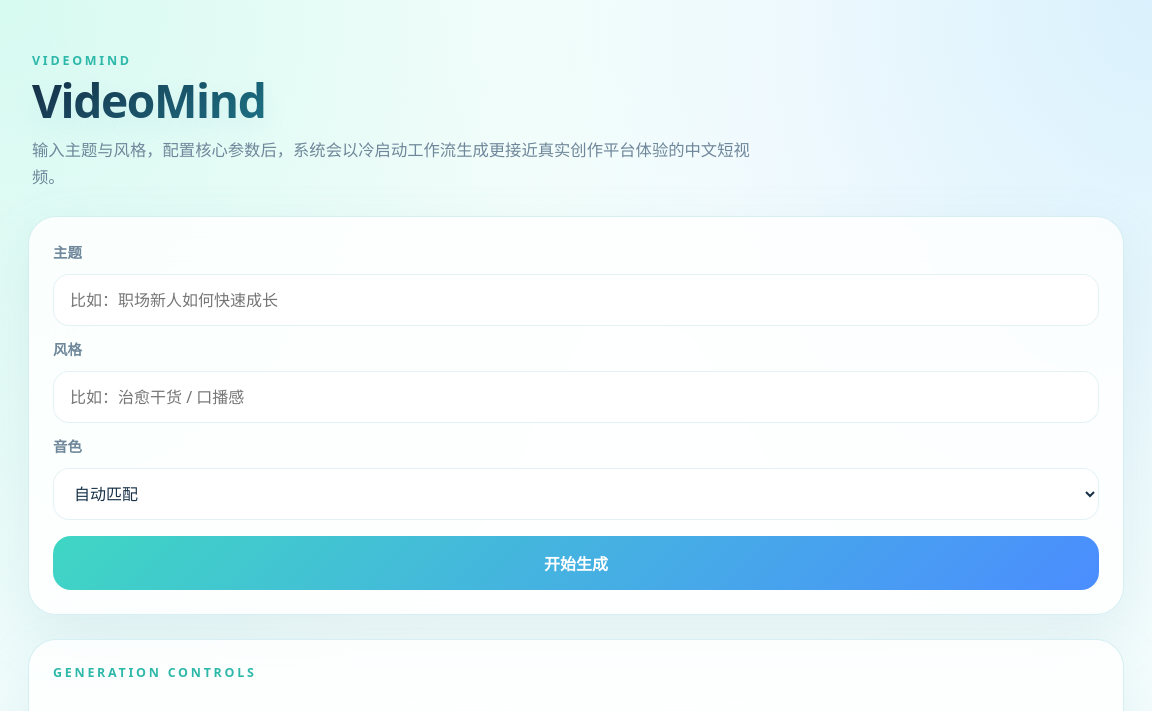
Test case: JobForm › submits on the home page and keeps generation on the current page
Step 1. Type "春节旅行攻略" into the field labelled "主题" → (576,300), box [53,274,1099,326]
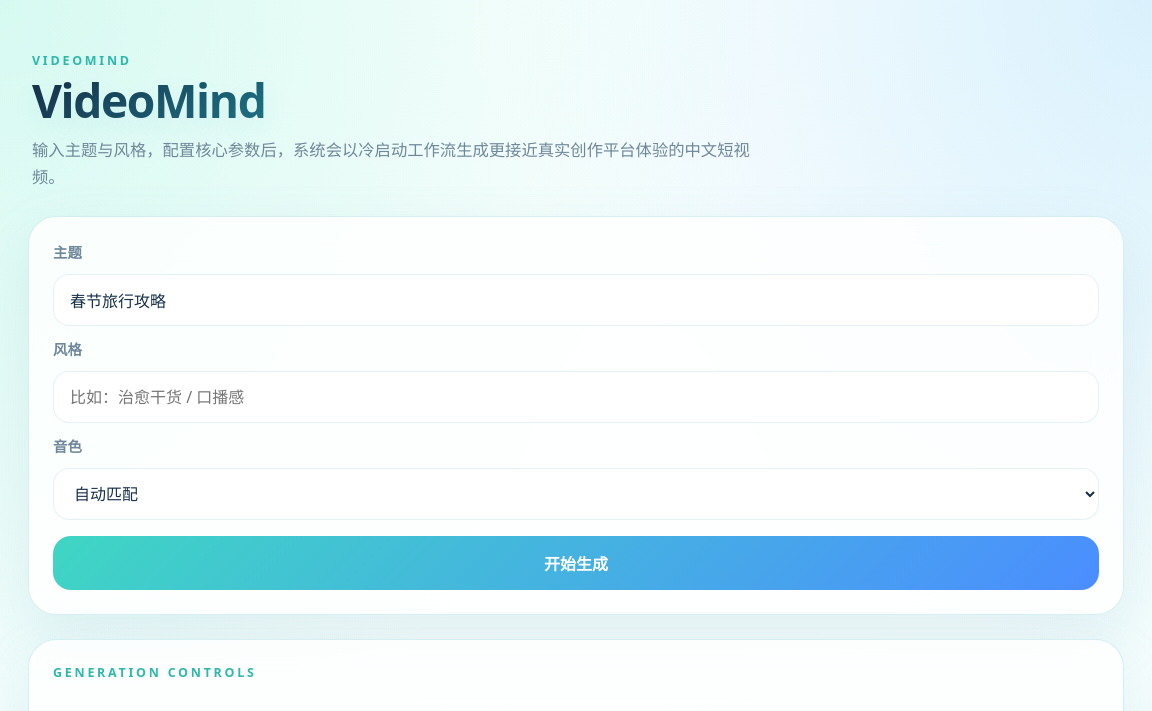
Step 2. Type "轻松口播" into the field labelled "风格" → (576,397), box [53,371,1099,423]
(page scrolled)
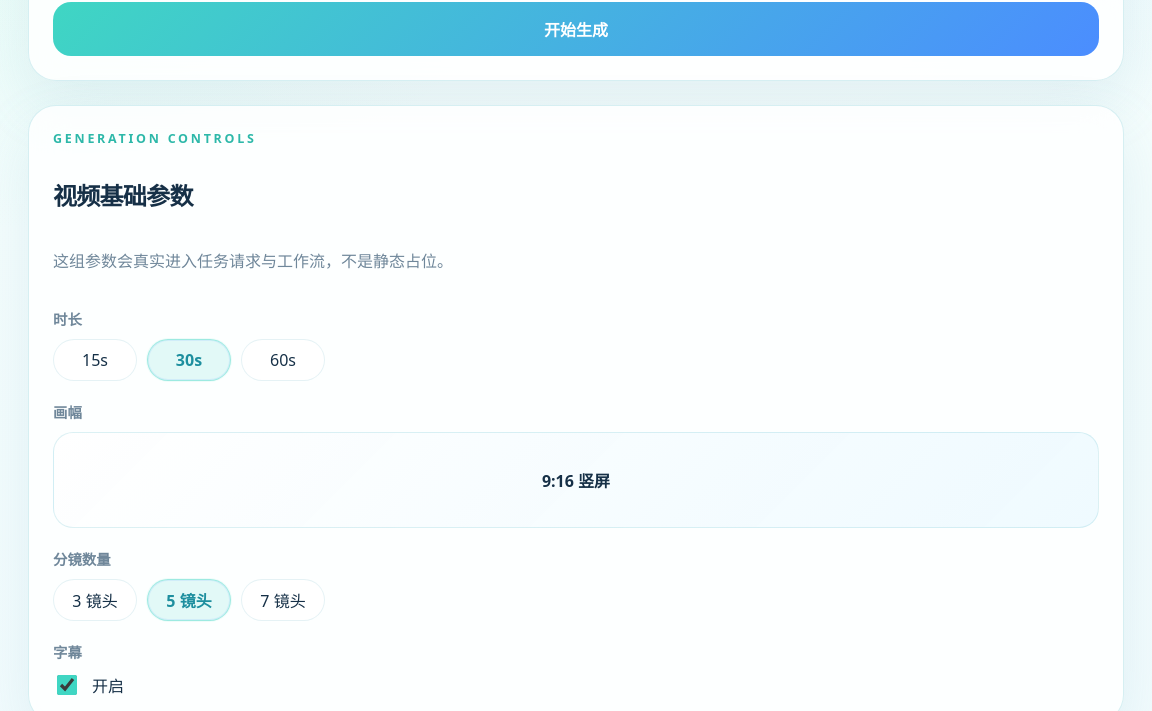
Step 3. Click the button "60s" → (283,360), box [241,339,325,381]
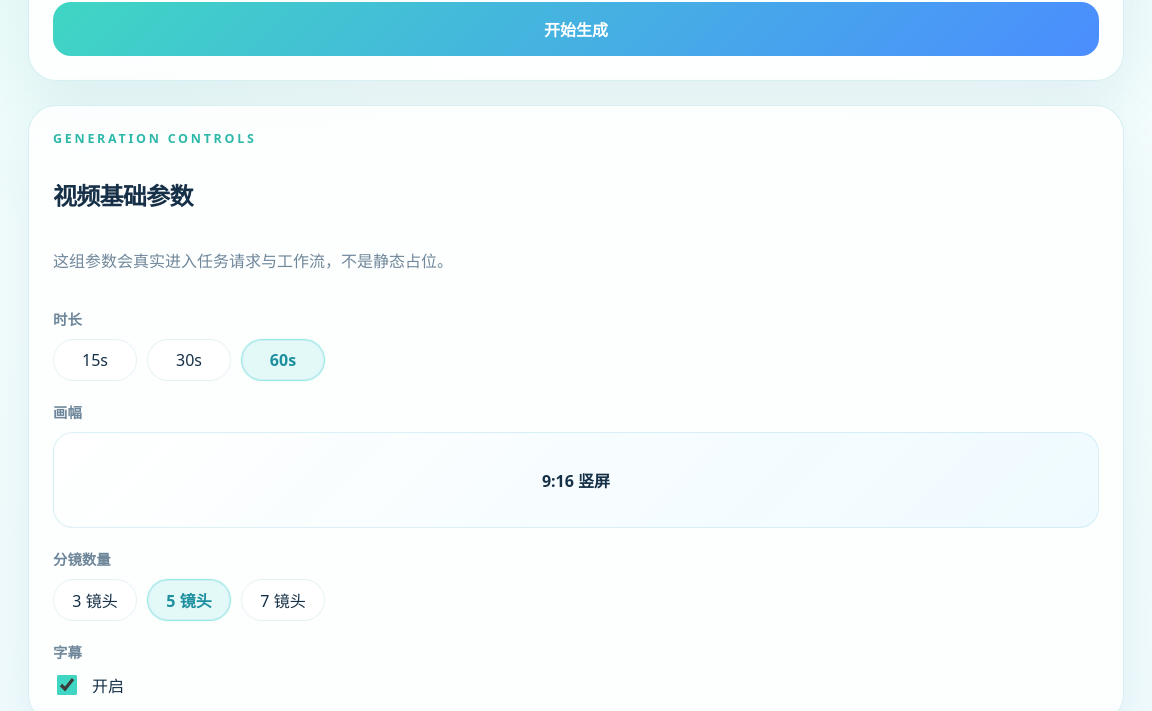
Step 4. Click the button "7 镜头" → (283,600), box [241,579,325,621]
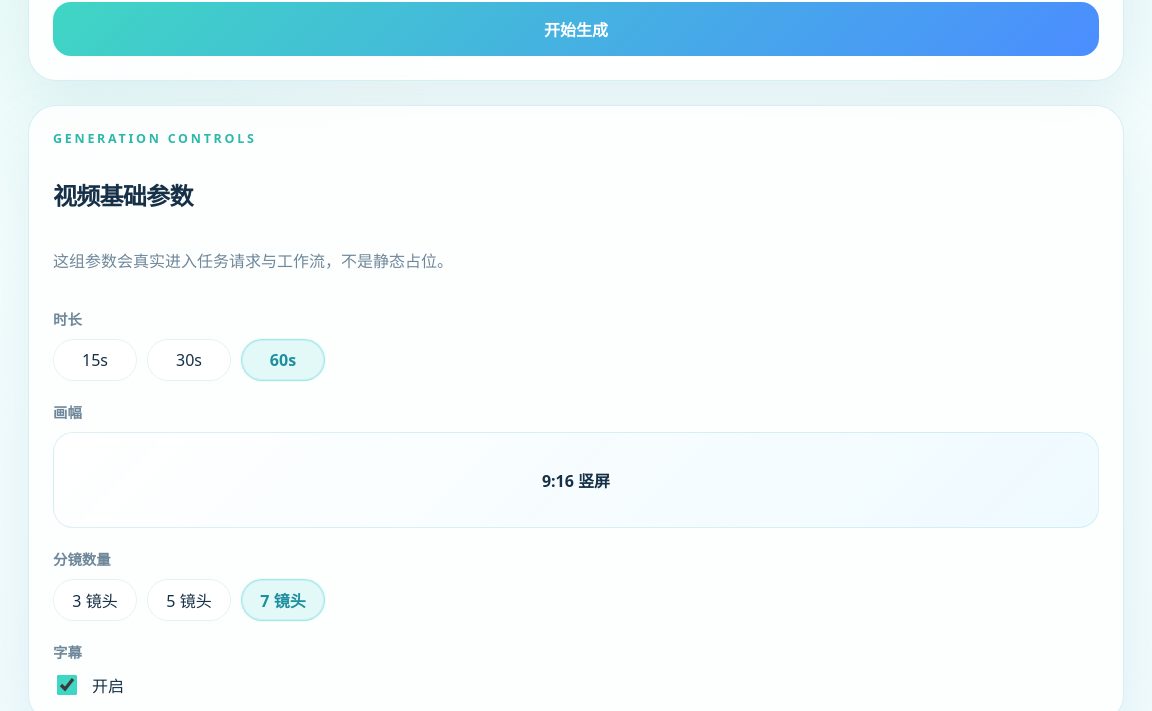
Step 5. Click the switch named "字幕" → (67,685), box [57,675,77,695]
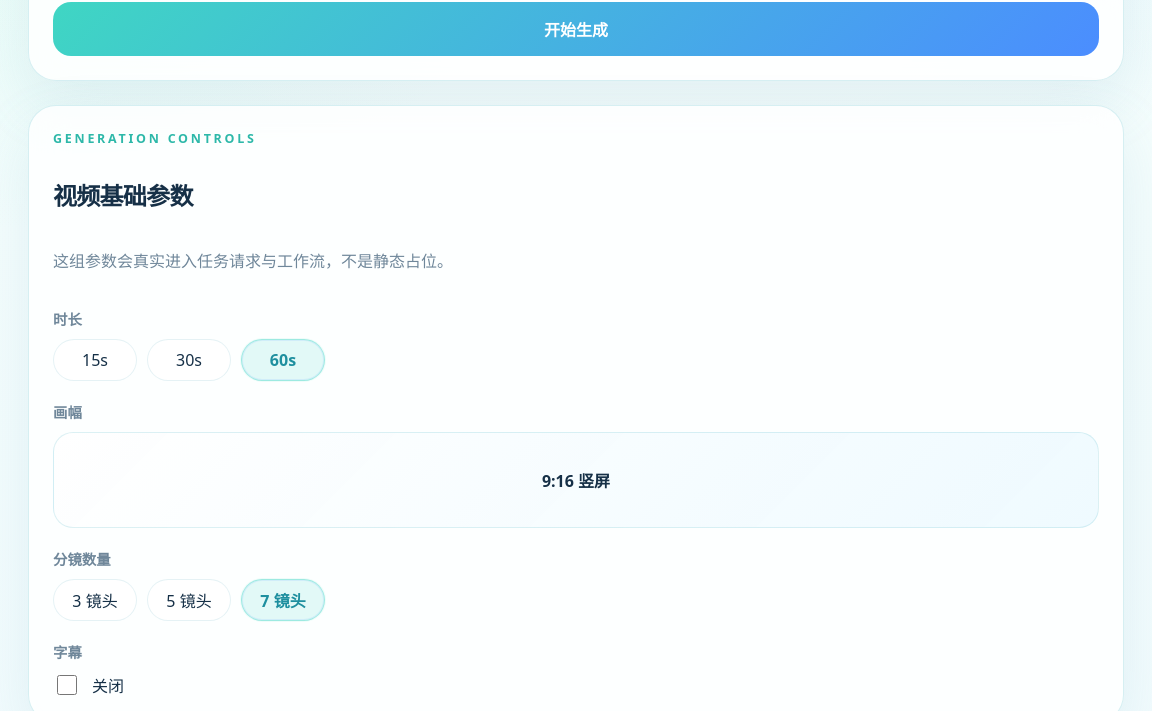
Step 6. Click the button "开始生成" → (576,29), box [53,2,1099,56]
(page scrolled)
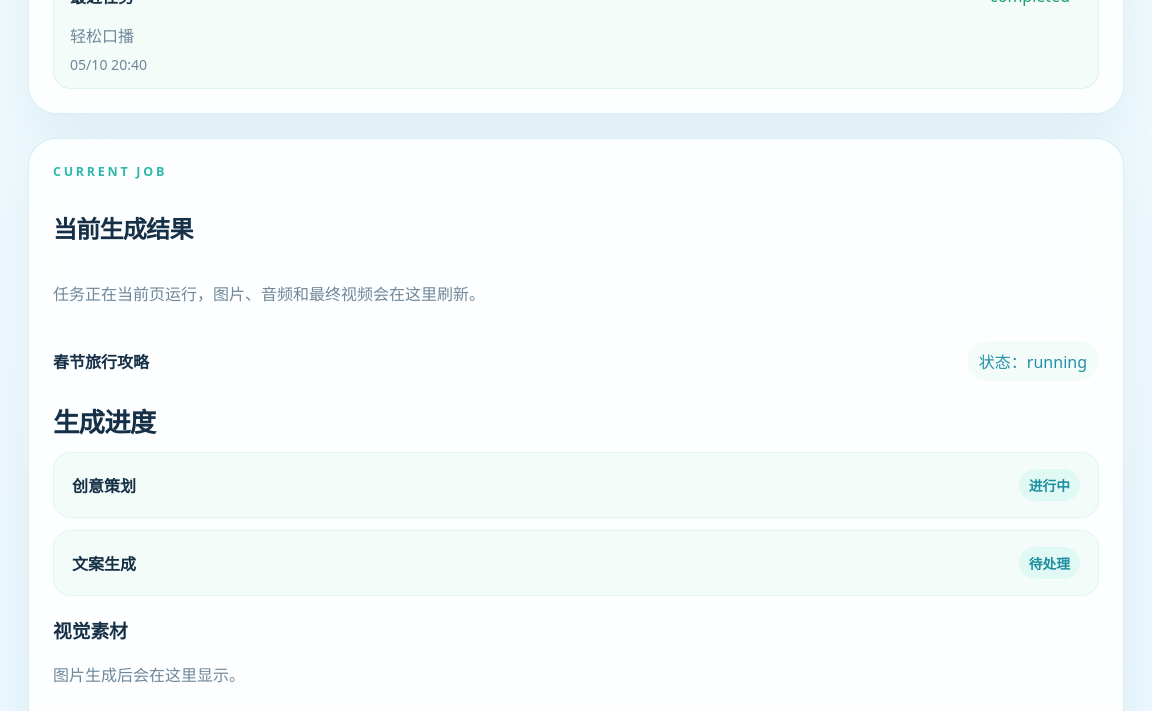
Expected: the heading "当前生成结果" is shown, [53,212,193,245]
Now the text "状态：running" is shown, box [967,341,1099,381]
